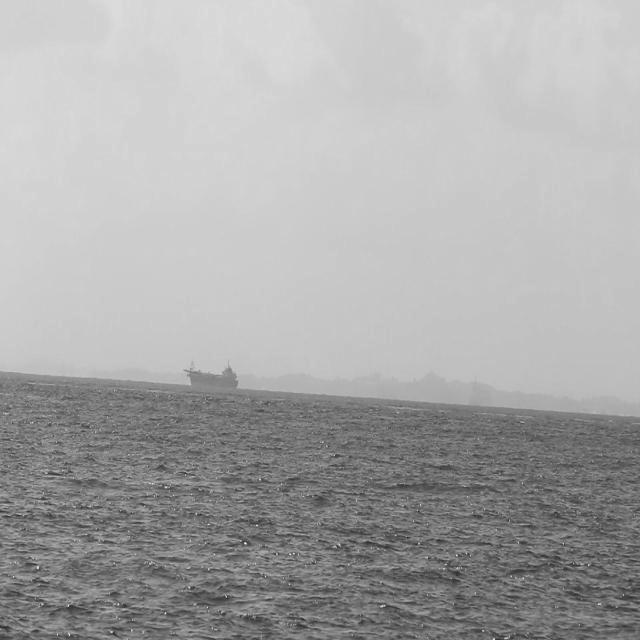ship: (184, 360, 242, 396)
